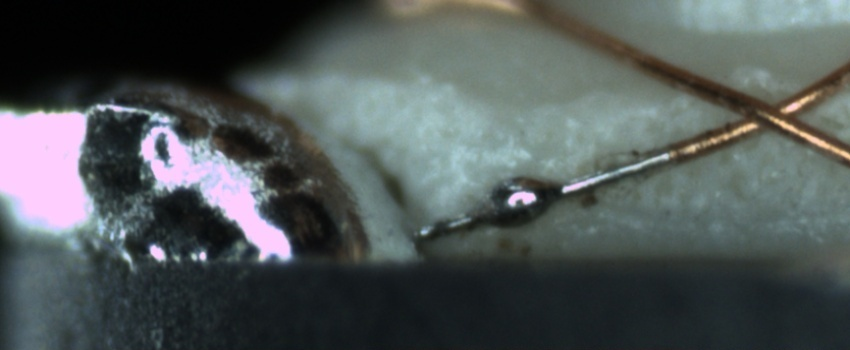CL: (718, 76, 829, 147)
DL: (447, 146, 579, 178)
TB: (478, 171, 556, 229)
TS: (415, 150, 673, 238)
TTCW: (412, 131, 728, 240)
